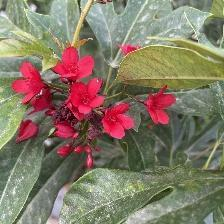jatropha: (51, 47, 97, 82), (70, 79, 109, 114), (103, 102, 137, 141)
